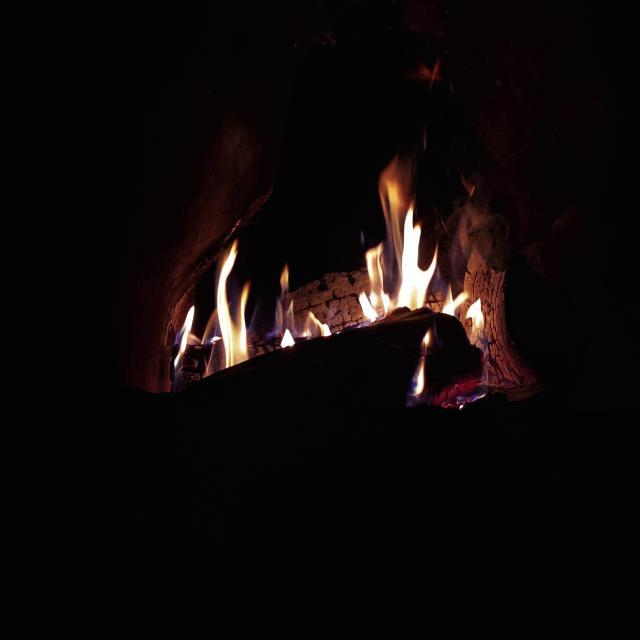Fire: (354, 184, 488, 338), (161, 237, 255, 376), (264, 266, 335, 354)
